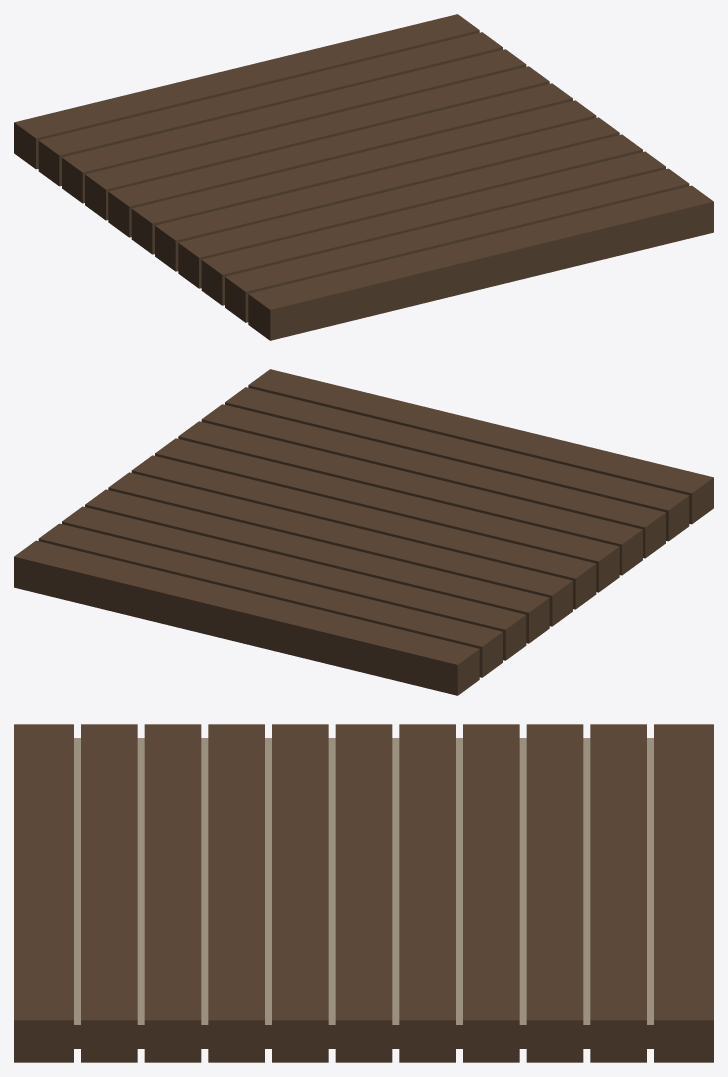
Rendered from table.fbx.
3 views of the same model, one above another, from view 1: azimuth 30°, elevation 25°; view 2: azimuth 150°, elevation 25°; view 3: azimuth 270°, elevation 25° (orthographic). The views are drawn at different scales.
Visible parts, largest first — view 1: Cube; view 2: Cube; view 3: Cube.
Boxes of the visible parts, bbox=[...] form: Cube: bbox=[14, 14, 713, 340]; Cube: bbox=[14, 369, 713, 695]; Cube: bbox=[14, 724, 713, 1062].
Bounding box in the file's own units: 3000 × 200 × 3000.
